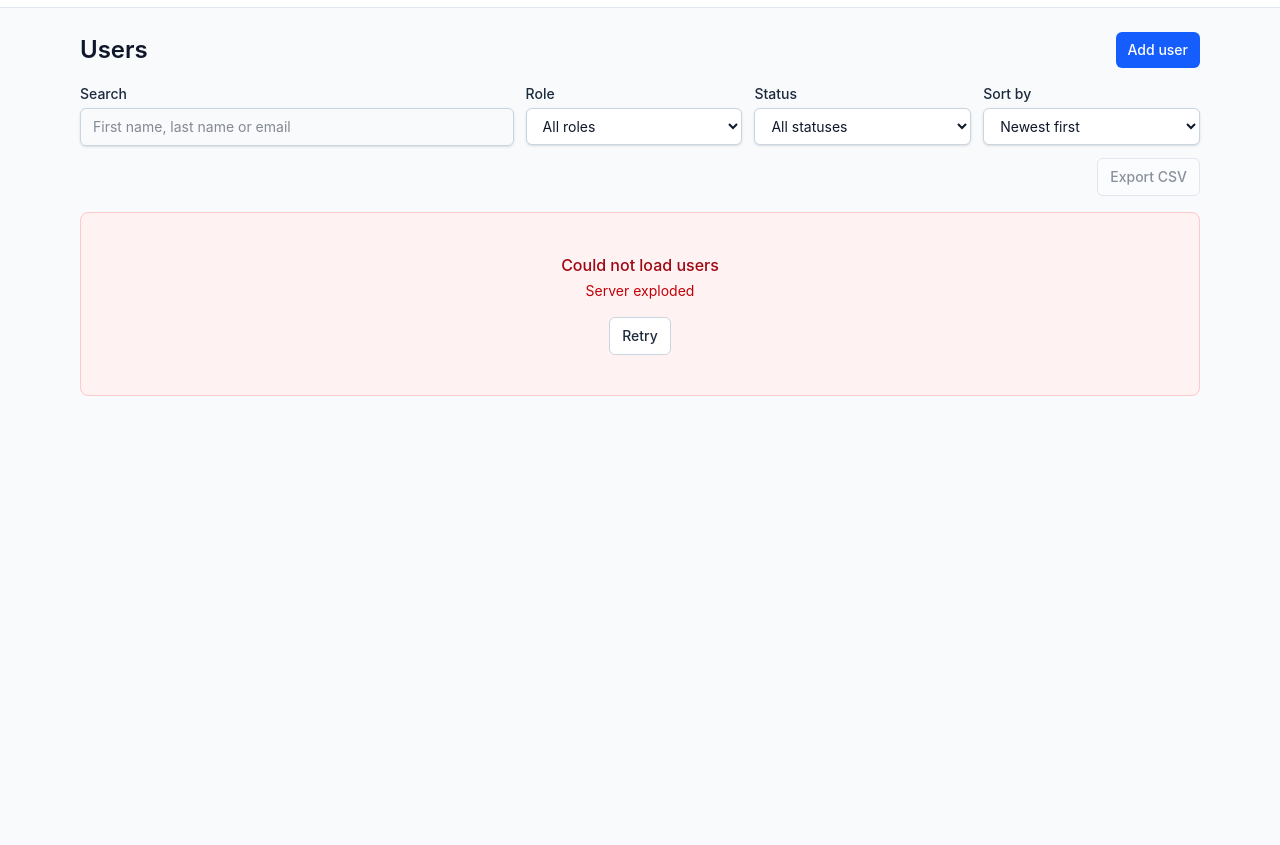
Test: UsersListPage states › shows an error with Retry, and recovers
Check: the message shows "Could not load users", box [561, 255, 719, 275]
Check: the message shows "Server exploded", box [586, 282, 694, 299]
Click the button "Retry".
click(640, 336)  # box [609, 317, 671, 355]
(page scrolled)
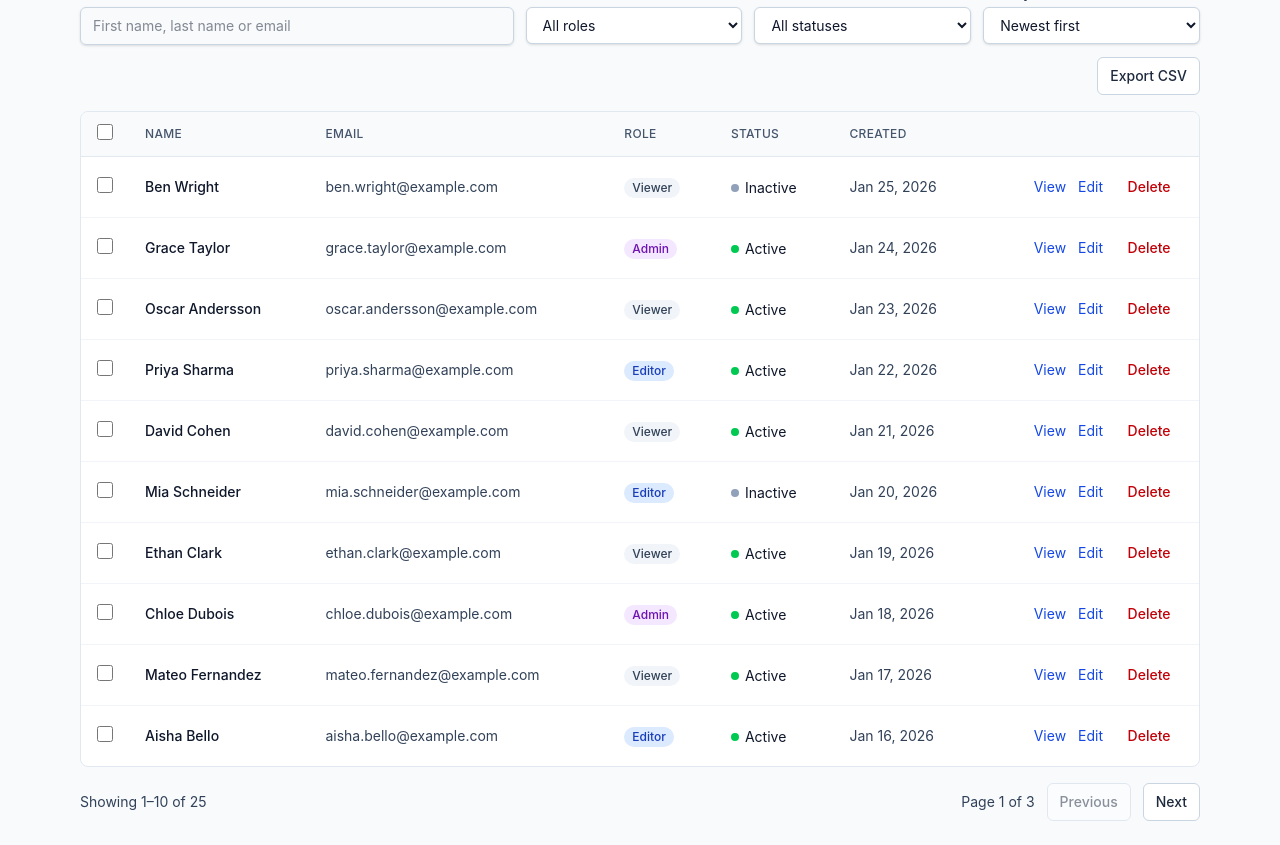
Check: the table named "Users" is shown
Check: the message "Could not load users Server exploded Retry" is gone
